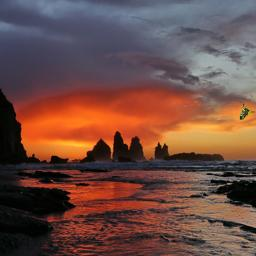Sparrow: (239, 102, 256, 120)
